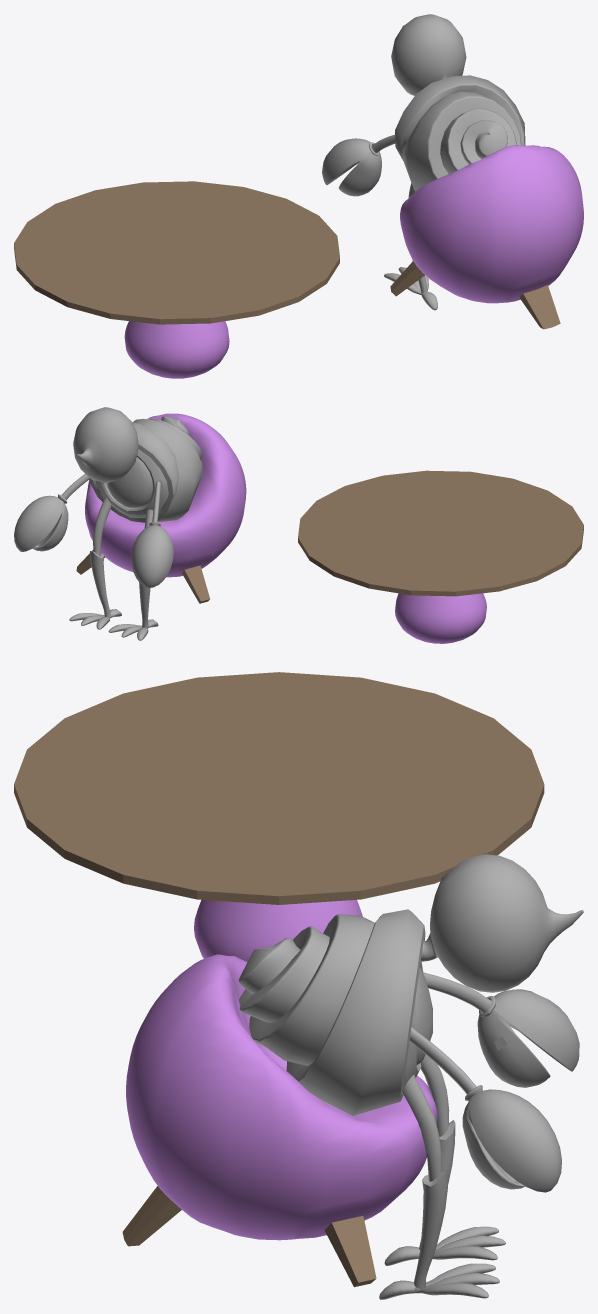
File: chair_01.fbx
3 views of the same model, one above another, from view 1: azimuth 30°, elevation 25°; view 2: azimuth 150°, elevation 25°; view 3: azimuth 270°, elevation 25° (orthographic). The views are drawn at different scales.
Visible parts, largest first — view 1: table_01, chair_01, shellster1; view 2: table_01, shellster1, chair_01; view 3: table_01, shellster1, chair_01.
Part boxes in pixels (bbox=[...]): table_01: bbox=[14, 181, 339, 378]; chair_01: bbox=[390, 145, 583, 329]; shellster1: bbox=[322, 14, 525, 310]; table_01: bbox=[298, 470, 583, 643]; shellster1: bbox=[14, 407, 202, 640]; chair_01: bbox=[76, 413, 246, 603]; table_01: bbox=[14, 672, 544, 961]; shellster1: bbox=[238, 854, 583, 1299]; chair_01: bbox=[122, 954, 437, 1287].
Size of the model in its own units: 386 by 177 by 215.
